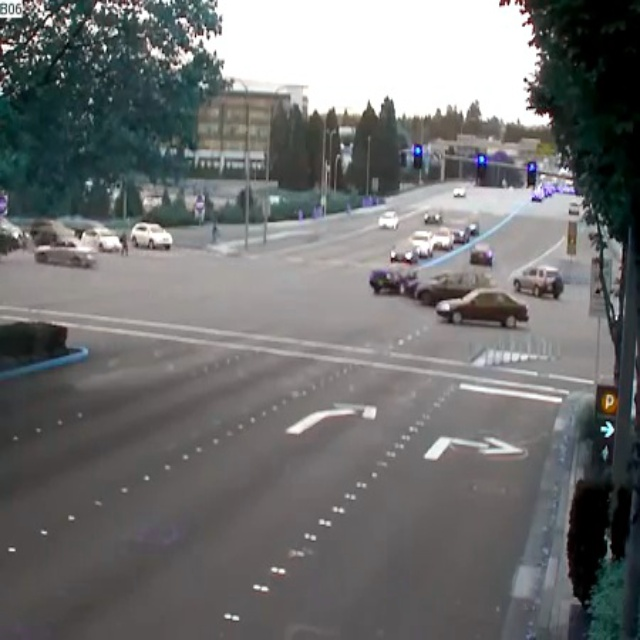acc: (363, 262, 491, 301)
